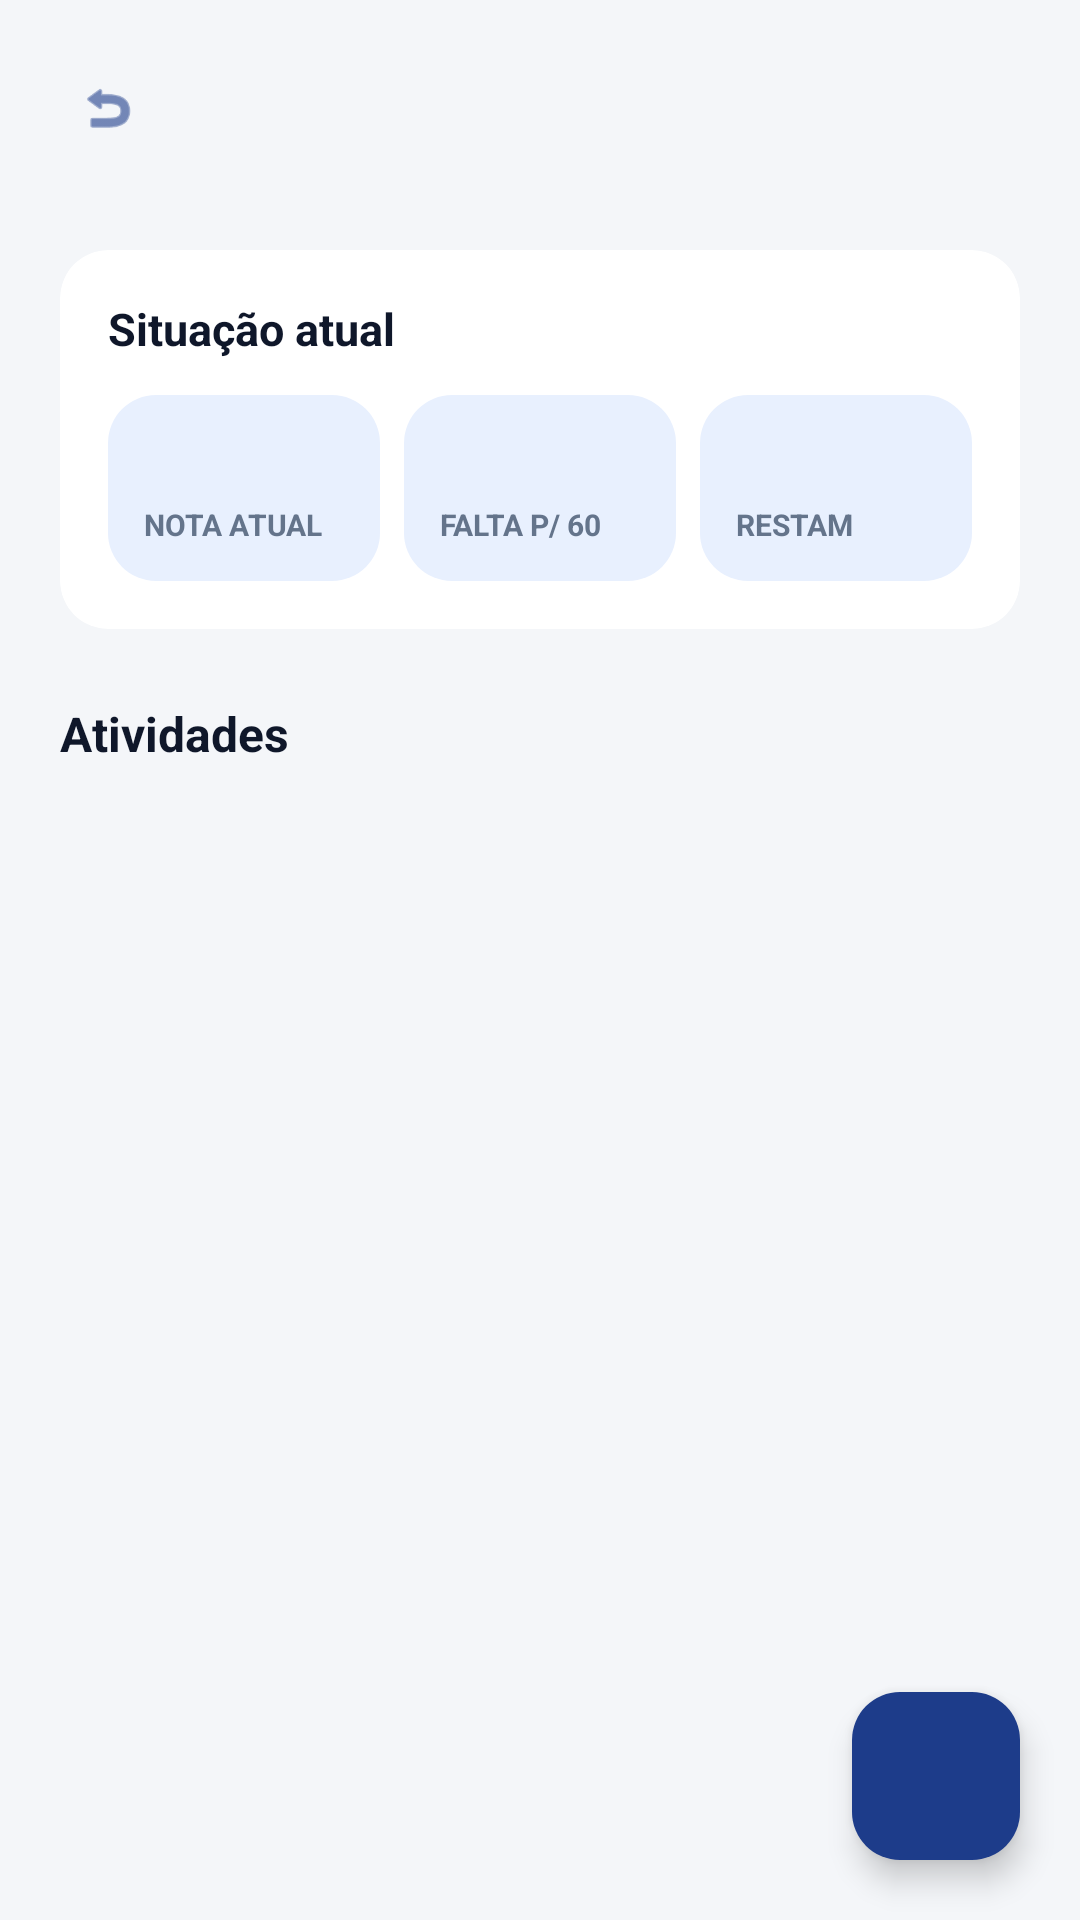

Locate icon controls on the screen. Image size 1080 × 1920, boxes as bbox=(x1, y1, x2, y2).
revert: bbox=(87, 89, 130, 128)
